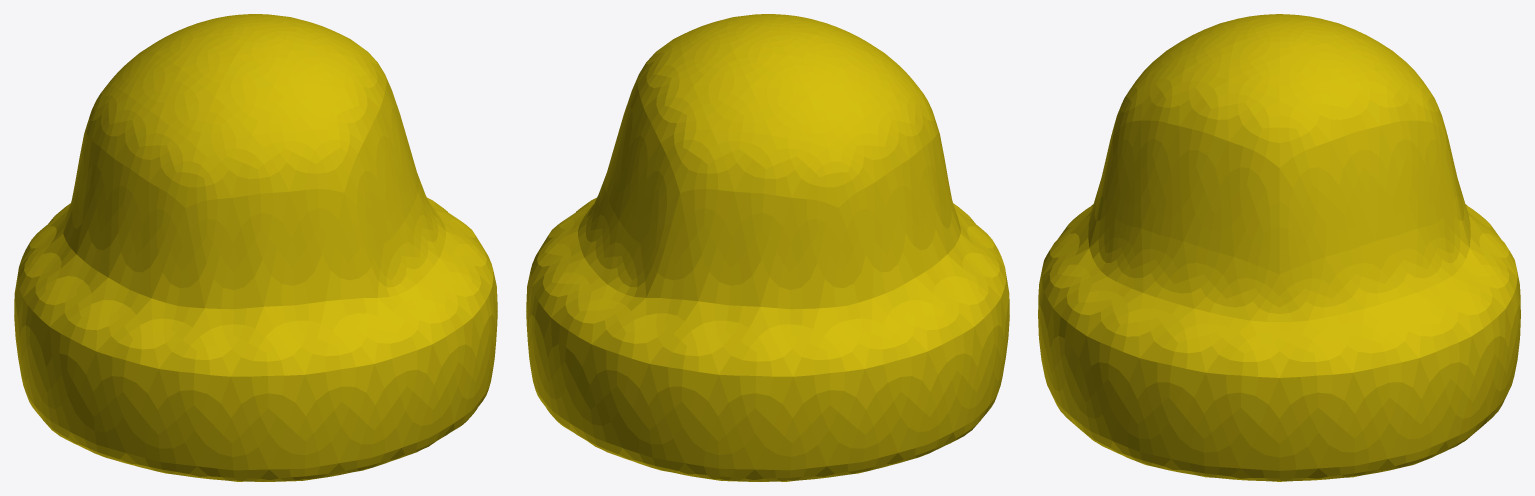
File: center_bumper.fbx
3 views of the same model, side by side, from view 1: azimuth 30°, elevation 25°; view 2: azimuth 150°, elevation 25°; view 3: azimuth 270°, elevation 25° (orthographic).
Visible parts, largest first — view 1: Icosphere; view 2: Icosphere; view 3: Icosphere.
Boxes of the visible parts, x1,y1,x2,y2 form: Icosphere: (14,14,497,481); Icosphere: (526,14,1009,481); Icosphere: (1038,14,1520,481).
Bounding box in the file's own units: 247 × 212 × 247.
